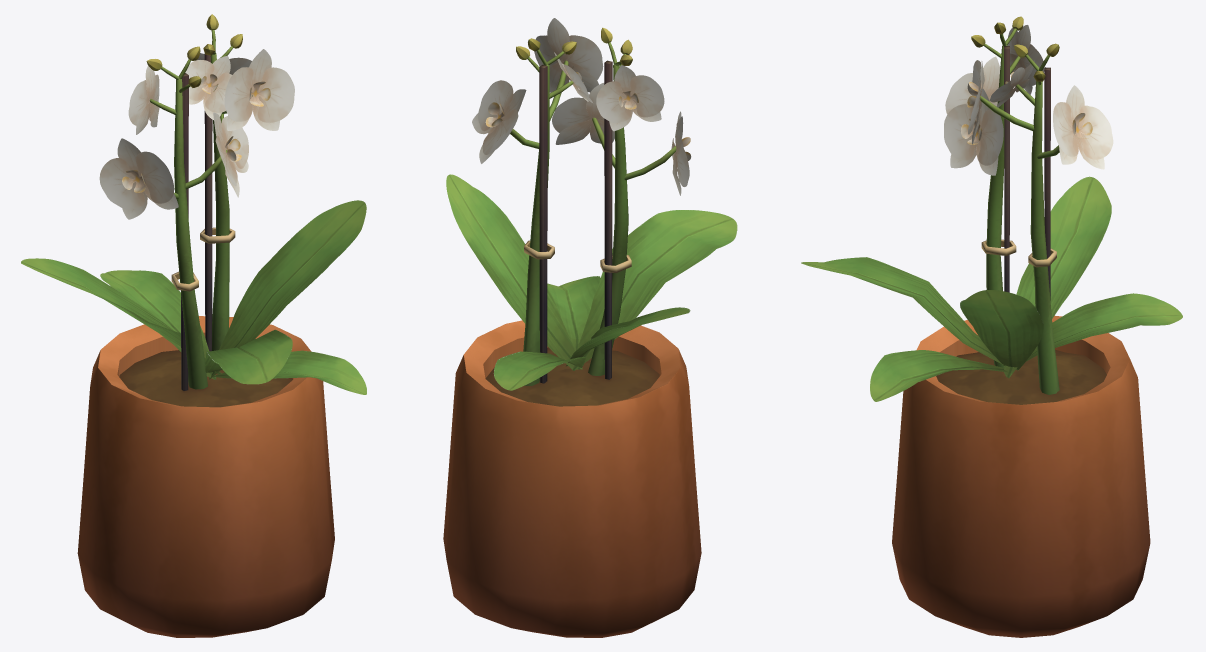
The model's file is MDL_Orchid.fbx.
The picture shows the model from 3 angles, left to right: view 1: azimuth 30°, elevation 25°; view 2: azimuth 150°, elevation 25°; view 3: azimuth 270°, elevation 25°; orthographic projection.
Visible parts, largest first — view 1: MDL_OrchidHealthy; view 2: MDL_OrchidHealthy; view 3: MDL_OrchidHealthy.
Part boxes in pixels (x1,y1,x2,y2): MDL_OrchidHealthy: [21, 14, 366, 637]; MDL_OrchidHealthy: [443, 18, 737, 637]; MDL_OrchidHealthy: [801, 16, 1182, 637].
Size of the model in its own units: 45.55 by 80.75 by 51.57.
